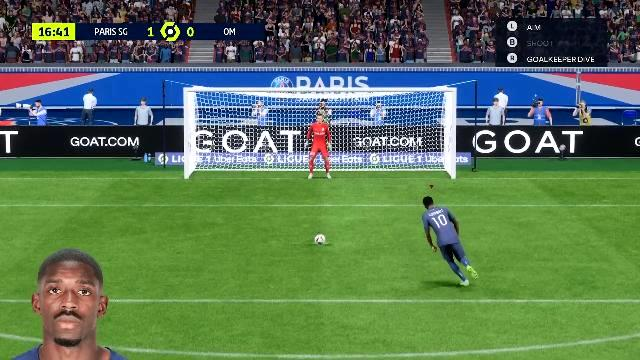bottom-left: (196, 143, 284, 181)
bottom-right: (360, 144, 444, 180)
center-down: (286, 145, 358, 181)
center-up: (286, 97, 356, 143)
football: (316, 236, 326, 242)
goalkeeper: (307, 114, 339, 182)
player: (413, 197, 487, 299)
top-left: (196, 98, 284, 142)
top-right: (360, 98, 444, 142)
